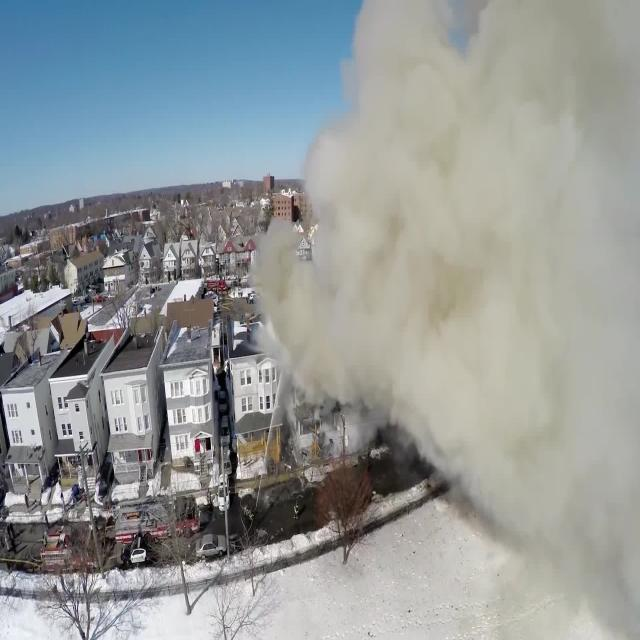smoke: (351, 0, 633, 578)
